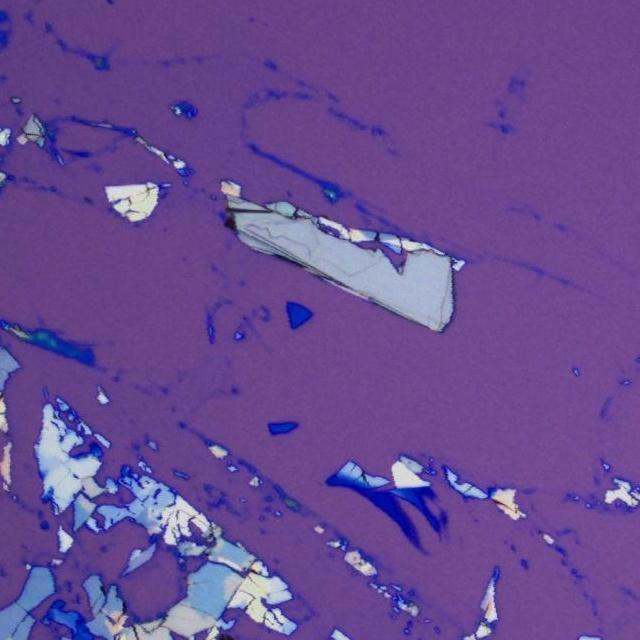monolayer-eWW4: (419, 544, 431, 558)
